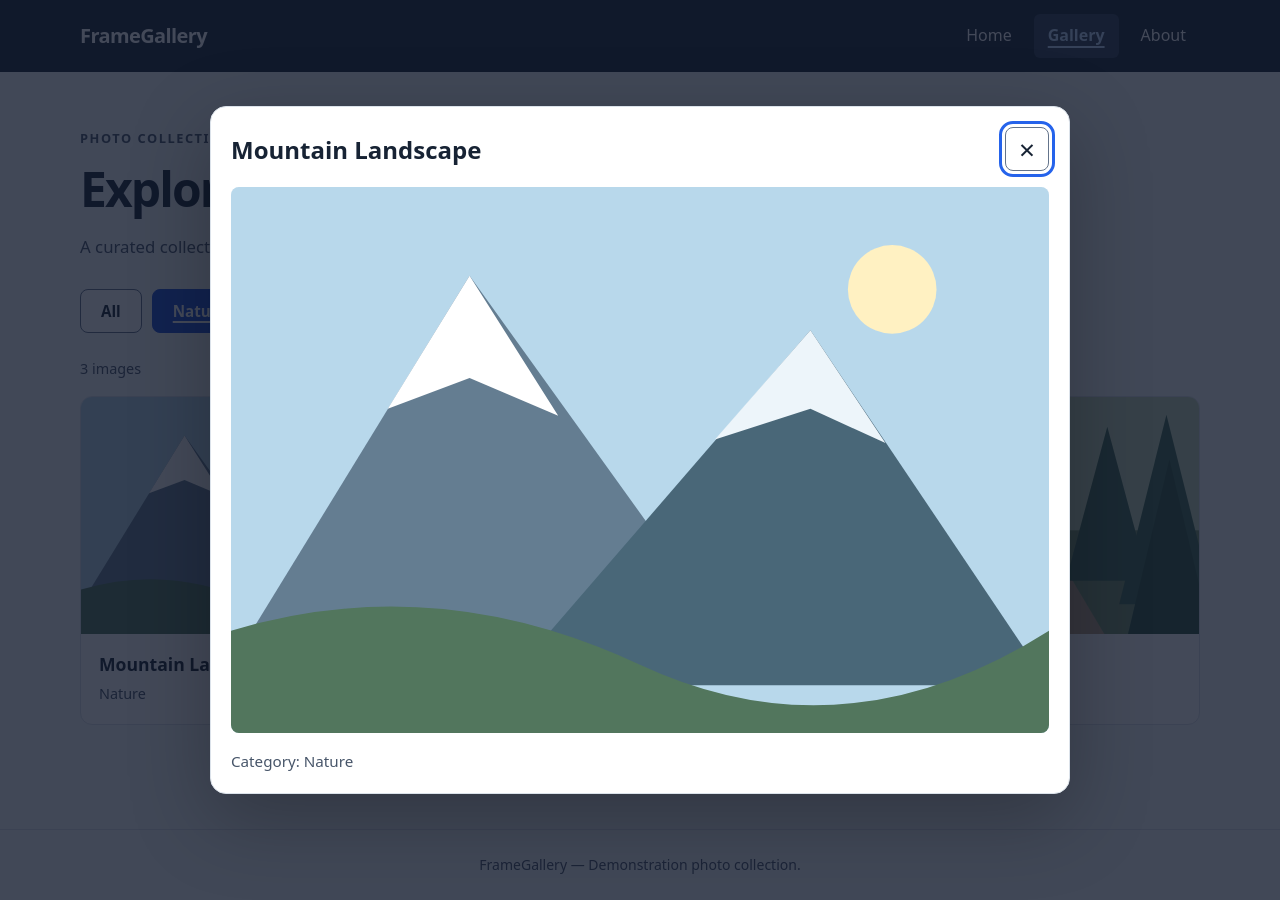
it: URL-driven photo dialog › removes only photoId when closing the dialog
Click the button named "Close photo".
click(1027, 149)  # box [1005,127,1049,171]
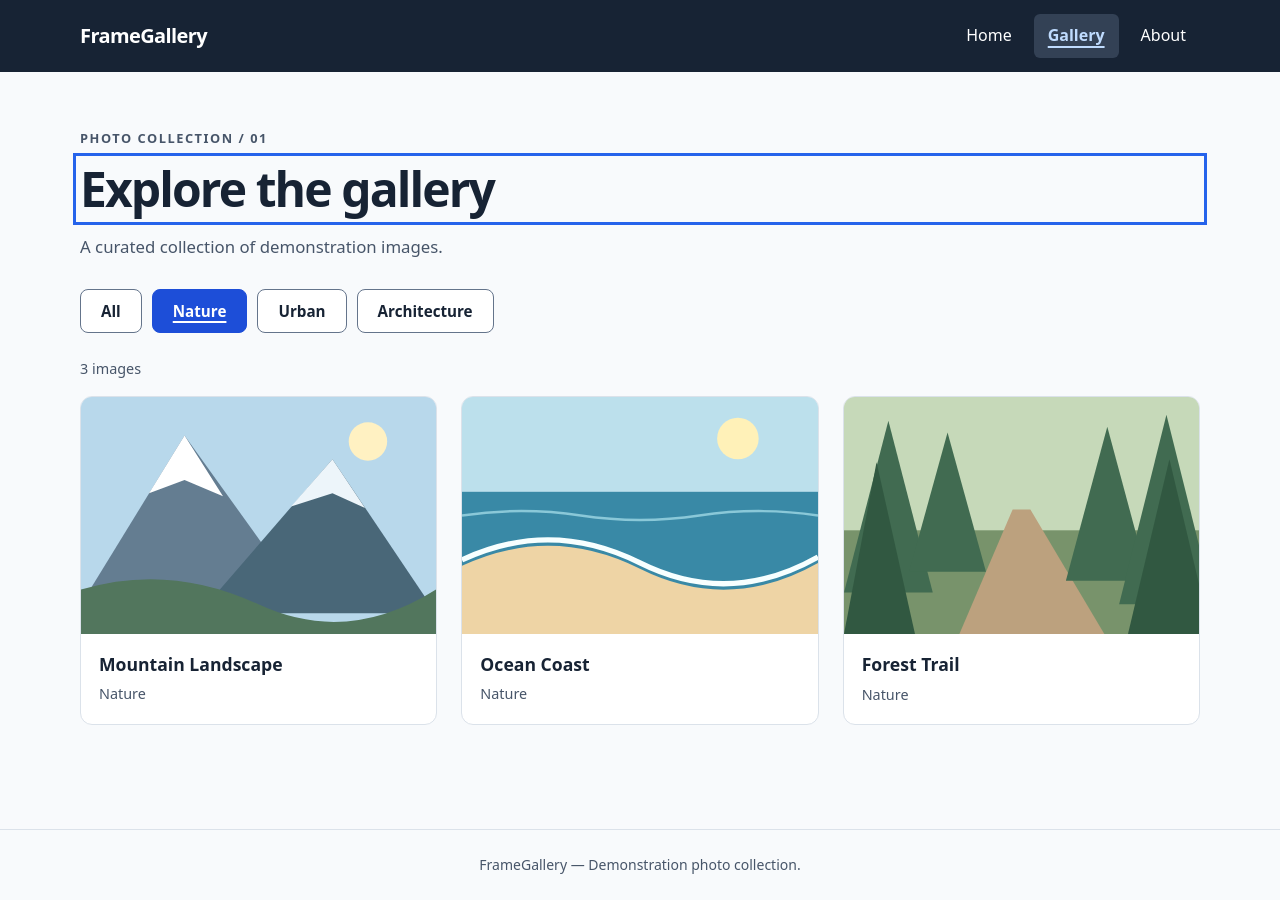
Expected: the dialog is gone
